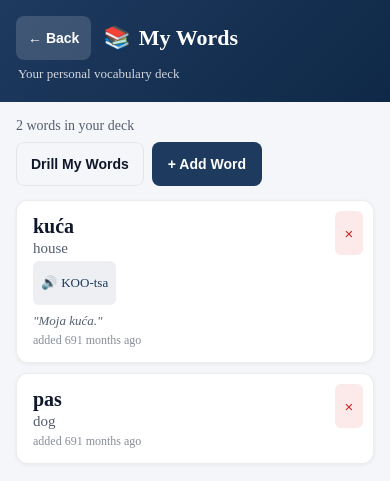
it: MyWordsScreen — delete word › deleting one of two words keeps the other
The width and height of the screenshot is (390, 481).
# Delete first × button (WORD_A at index 0)
Click the button titled "Delete word" in the row of "house". click: [349, 233]
box: [335, 211, 363, 255]
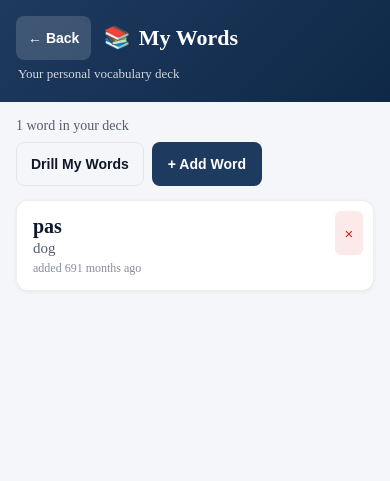
Expected: the text "pas" is shown, [33, 215, 62, 237]
Expected: the text "kuća" is gone
